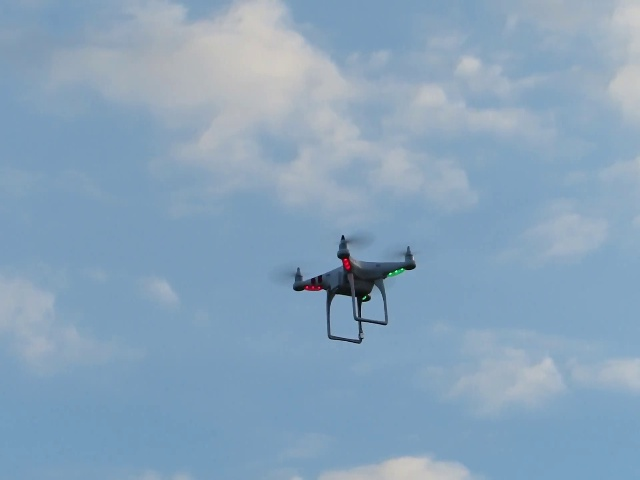drone: (275, 227, 428, 345)
